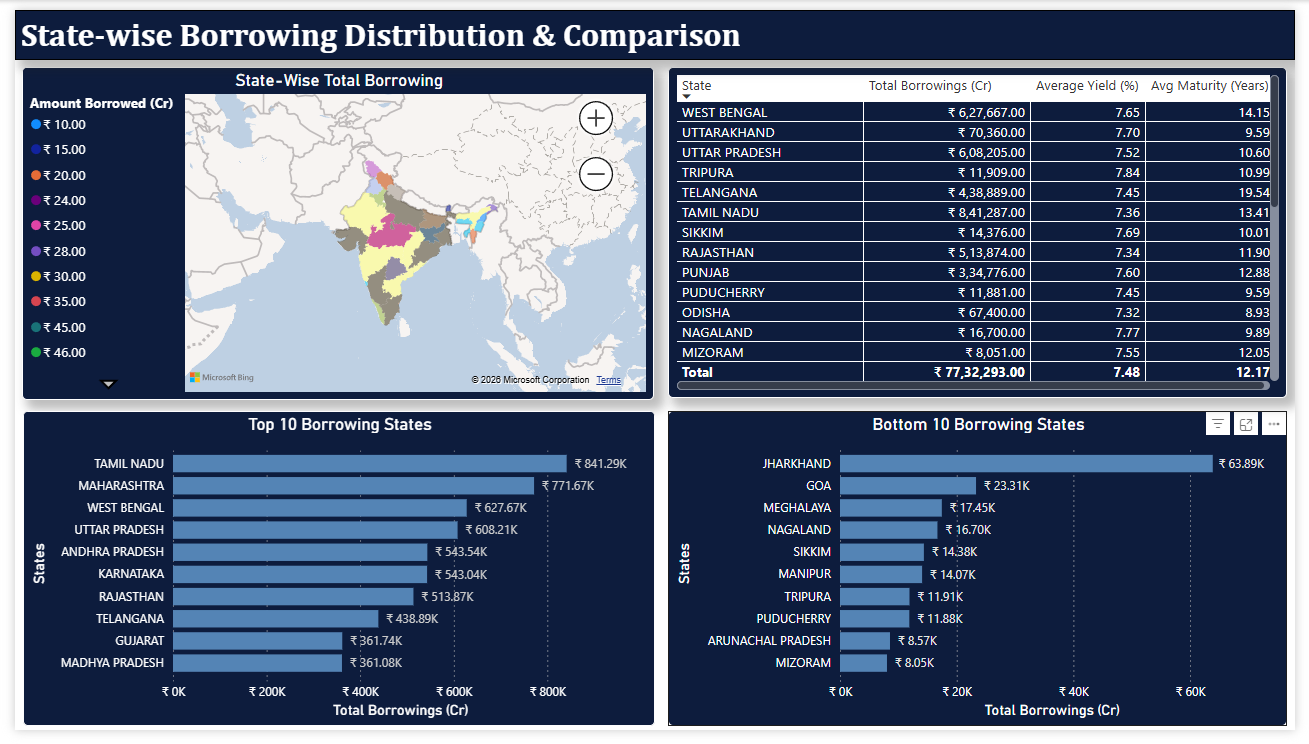

What the dashboard file says about the page in this screenshot:
{"tool":"powerbi","page":{"name":"State Wise Analysis","canvas":[1280,720],"ordinal":1},"visuals":[{"type":"filledMap","title":"State-Wise Total Borrowing","fields":{"Category":["clean_state_market_borrowings (2).state"],"Series":["clean_state_market_borrowings (2).notified_amount"]},"box":[7,57,632,333],"z":0},{"type":"clusteredBarChart","title":"Top 10 Borrowing States","fields":{"Category":["clean_state_market_borrowings (2).state"],"Y":["Sum(clean_state_market_borrowings (2).notified_amount)"]},"box":[8,401,632,315],"z":1000},{"type":"clusteredBarChart","title":"Bottom 10 Borrowing States","fields":{"Category":["clean_state_market_borrowings (2).state"],"Y":["Sum(clean_state_market_borrowings (2).notified_amount)"]},"box":[653,401,619,315],"z":2000},{"type":"tableEx","fields":{"Values":["clean_state_market_borrowings (2).state","Sum(clean_state_market_borrowings (2).notified_amount)","Avg(clean_state_market_borrowings (2).avg_yield)","clean_state_market_borrowings (2).Avg Maturity (Years)"]},"box":[653,57,619,331],"z":3000},{"type":"textbox","box":[0,0,1280,50],"z":4000}]}

Visuals, with their boxes in screenshot pixels (x1, y1, x2, y2), scaled from the page's 1280x720 canvas onto the 1309x744 screenshot:
"State-Wise Total Borrowing" filledMap: [7, 59, 653, 403]
"Top 10 Borrowing States" clusteredBarChart: [8, 414, 654, 740]
"Bottom 10 Borrowing States" clusteredBarChart: [668, 414, 1301, 740]
tableEx - clean_state_market_borrowings (2).state x Sum(clean_state_market_borrowings (2).notified_amount): [668, 59, 1301, 401]
textbox: [0, 0, 1308, 52]
